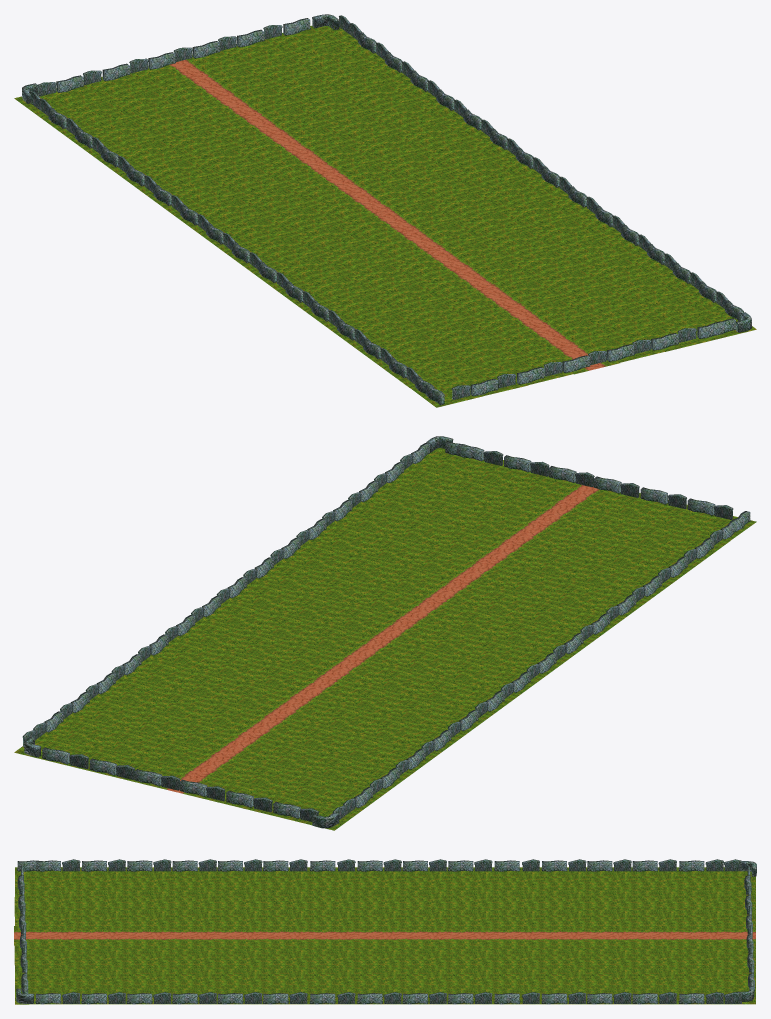
Rendered from blogagem_1.gltf.
The picture shows the model from 3 angles, top to bottom: view 1: azimuth 30°, elevation 25°; view 2: azimuth 150°, elevation 25°; view 3: azimuth 270°, elevation 25°; orthographic projection. The views are drawn at different scales.
Visible parts, largest first — view 1: CaminhoTemplate3, CaminhoTemplate6, CaminhoTemplate4, CaminhoTemplate5, GramaTemplate20, GramaTemplate62, GramaTemplate17, GramaTemplate24, GramaTemplate41, GramaTemplate48, GramaTemplate45, GramaTemplate4 (+87 smaller); view 2: CaminhoTemplate3, CaminhoTemplate6, CaminhoTemplate5, CaminhoTemplate4, GramaTemplate17, GramaTemplate62, GramaTemplate63, GramaTemplate20, GramaTemplate25, GramaTemplate18, GramaTemplate41, GramaTemplate51 (+87 smaller); view 3: CaminhoTemplate3, CaminhoTemplate6, CaminhoTemplate5, CaminhoTemplate4, GramaTemplate62, GramaTemplate60, GramaTemplate49, GramaTemplate57, GramaTemplate54, GramaTemplate50, GramaTemplate51, GramaTemplate55 (+118 smaller).
Part boxes in pixels (x1,y1,x2,y2): CaminhoTemplate3: (258,131,408,219); CaminhoTemplate6: (364,209,513,296); CaminhoTemplate4: (157,55,303,142); CaminhoTemplate5: (468,285,619,374); GramaTemplate20: (423,296,493,327); GramaTemplate62: (324,269,395,299); GramaTemplate17: (448,316,520,346); GramaTemplate24: (317,219,388,249); GramaTemplate41: (586,282,657,312); GramaTemplate48: (454,186,525,216); GramaTemplate45: (533,243,604,274); GramaTemplate4: (212,142,282,172); CaminhoTemplate3: (257,631,408,719); CaminhoTemplate6: (364,554,513,641); CaminhoTemplate5: (468,481,613,565); CaminhoTemplate4: (151,709,302,797); GramaTemplate17: (540,526,612,557); GramaTemplate62: (506,595,578,625); GramaTemplate63: (480,615,552,645); GramaTemplate20: (514,546,585,576); GramaTemplate25: (449,504,520,534); GramaTemplate18: (567,507,638,537); GramaTemplate41: (403,493,474,523); GramaTemplate51: (428,653,499,683); CaminhoTemplate3: (384,926,570,945); CaminhoTemplate6: (199,926,385,945); CaminhoTemplate5: (14,926,200,945); CaminhoTemplate4: (569,926,755,945); GramaTemplate62: (246,886,293,906); GramaTemplate60: (154,886,200,906); GramaTemplate49: (477,886,524,906); GramaTemplate57: (108,886,154,906); GramaTemplate54: (616,886,663,906); GramaTemplate50: (431,886,478,906); GramaTemplate51: (385,886,431,906); GramaTemplate55: (662,886,709,906).
Bounding box in the file's own units: 70.15 × 2.69 × 161.
Materials: 2 (2 with a texture image).
